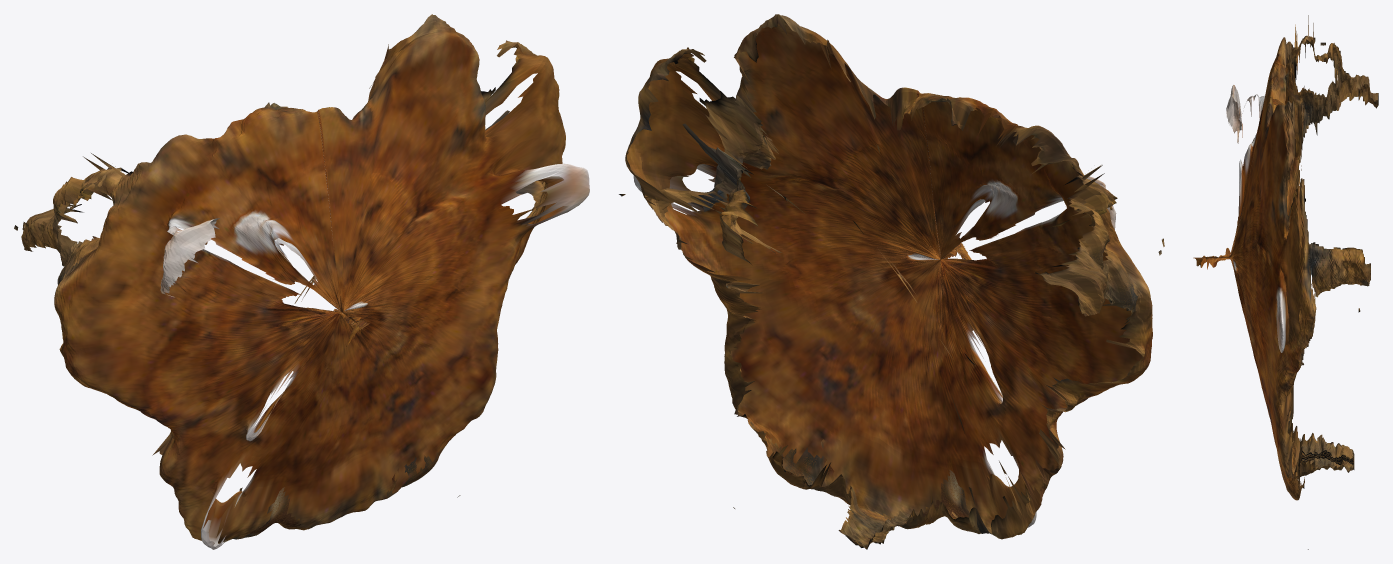
3 views of the same model, side by side, from view 1: azimuth 30°, elevation 25°; view 2: azimuth 150°, elevation 25°; view 3: azimuth 270°, elevation 25° (orthographic). The views are drawn at different scales.
Parts seen in each view (by area): view 1: geometry_0; view 2: geometry_0; view 3: geometry_0.
Part boxes in pixels (x1=…): geometry_0: x1=14, y1=14, x2=589, y2=549; geometry_0: x1=619, y1=14, x2=1164, y2=549; geometry_0: x1=1193, y1=15, x2=1378, y2=549.
Size of the model in its own units: 1.88 by 1.62 by 0.6282.
Materials: 1 (1 with a texture image).
